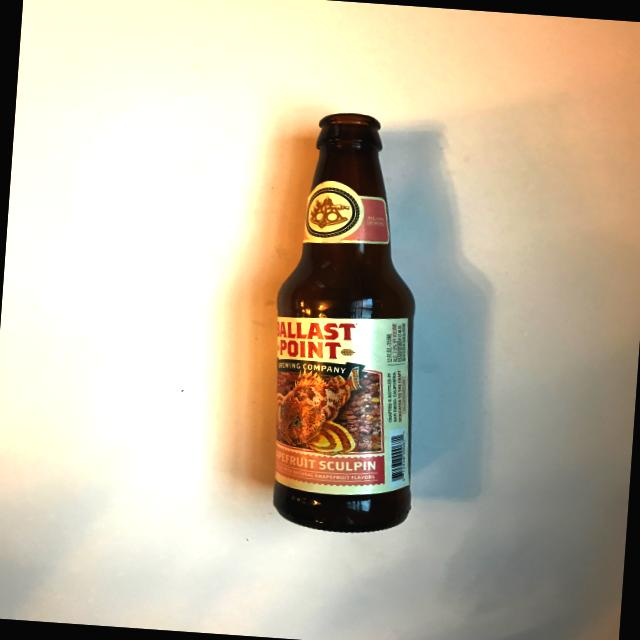Glass: (254, 95, 447, 549)
